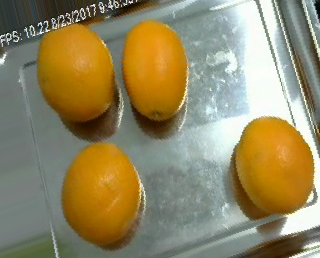Orange: (60, 141, 141, 245), (235, 115, 316, 214), (35, 23, 114, 123), (122, 20, 188, 121)
